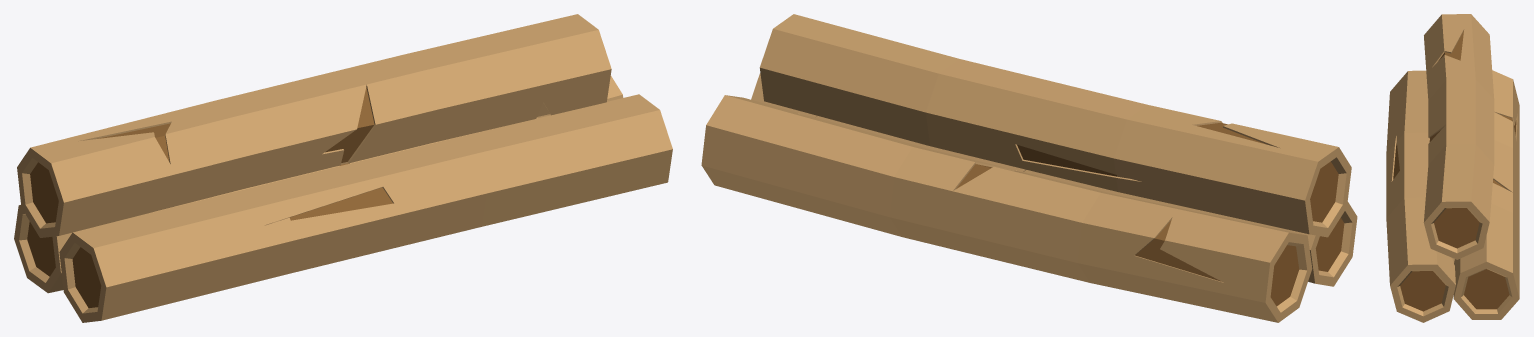
The model's file is props_87.gltf.
3 renders of one model, left to right at view 1: azimuth 30°, elevation 25°; view 2: azimuth 150°, elevation 25°; view 3: azimuth 270°, elevation 25°, orthographic. The views are drawn at different scales.
Parts seen in each view (by area): view 1: props_87; view 2: props_87; view 3: props_87.
Part boxes in pixels (left/top/right/bottom): props_87: left=14, top=14, right=672, bottom=322; props_87: left=701, top=14, right=1357, bottom=322; props_87: left=1386, top=14, right=1519, bottom=322.
Size of the model in its own units: 1.96 by 0.5019 by 0.5518.
1 material, 1 textured.
